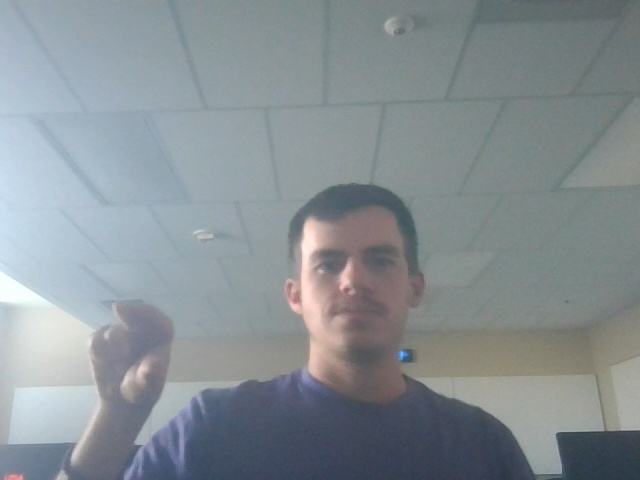no: (78, 296, 185, 409)
